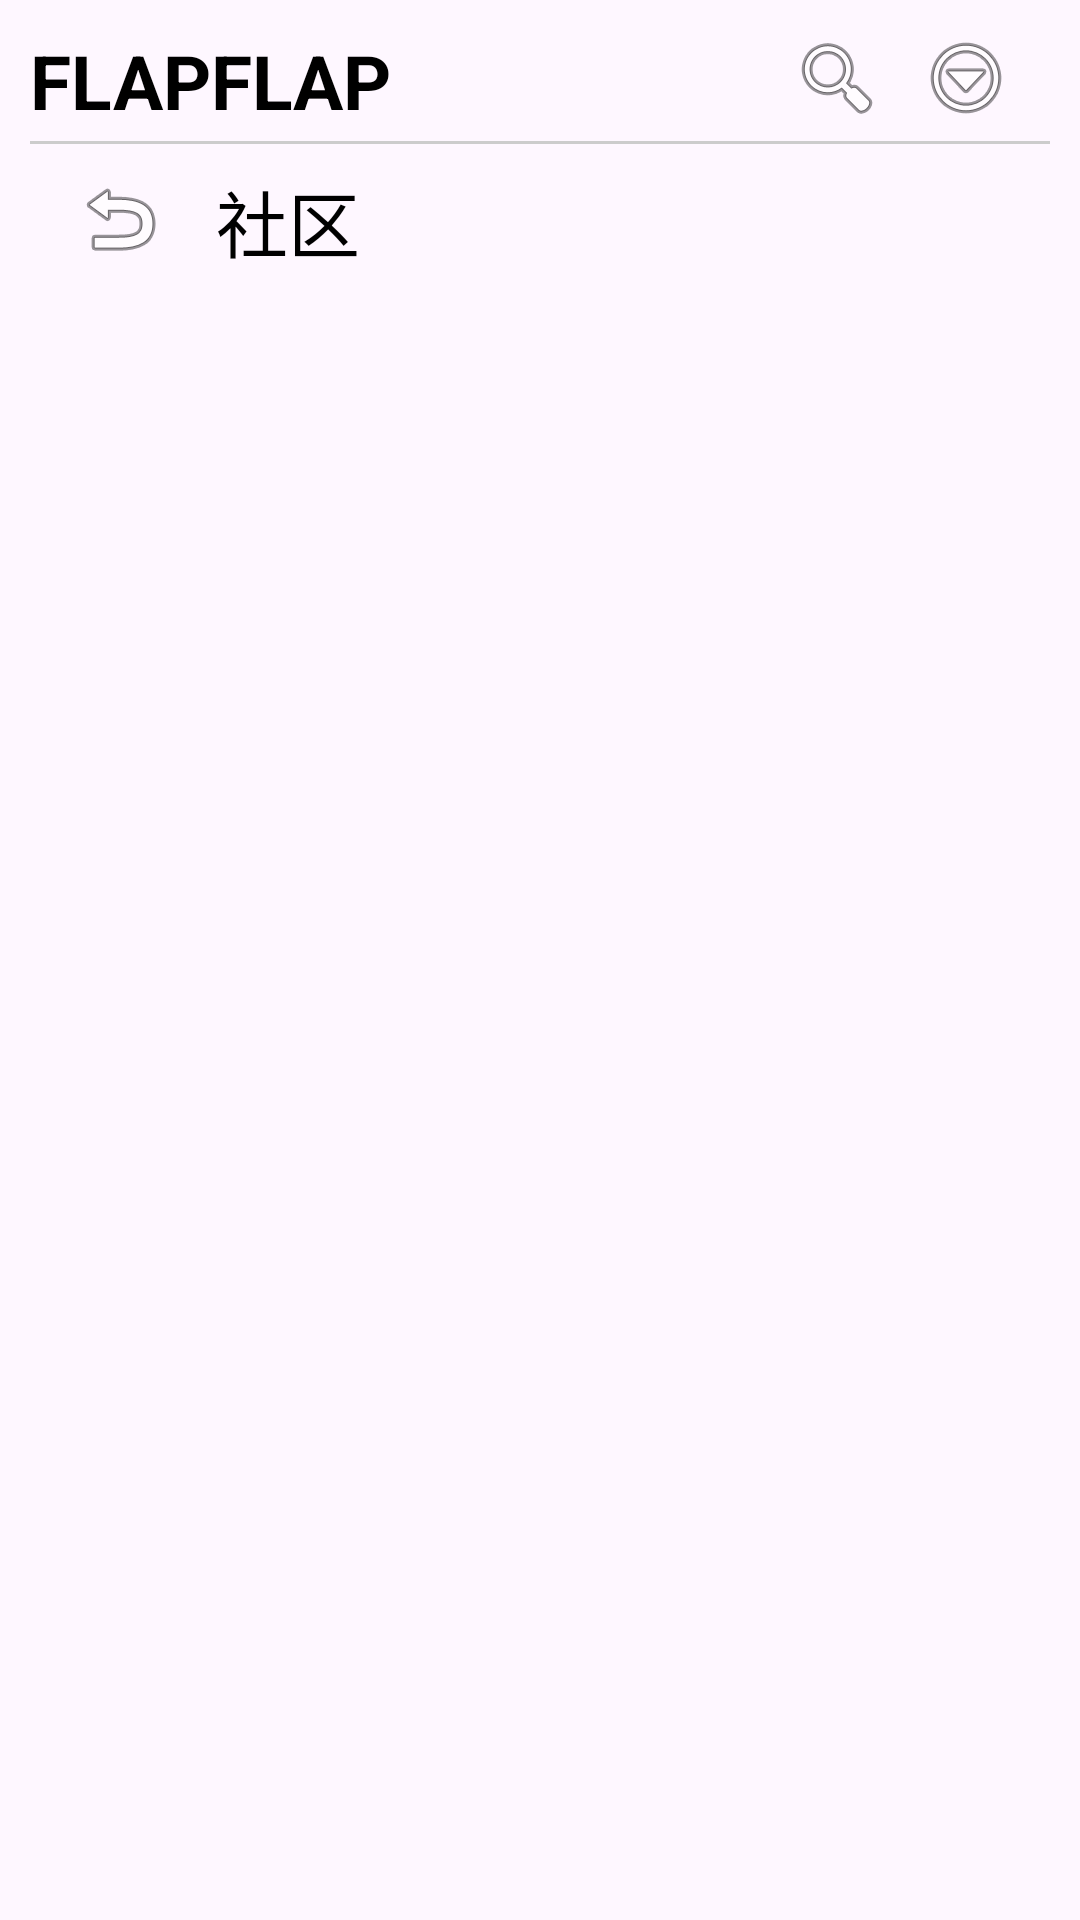

Screen size 1080 x 1920. Icon name, then its center in pixels as (x=x, y=y):
Back: (x=121, y=219)
Menu: (x=966, y=78)
Search: (x=837, y=78)
